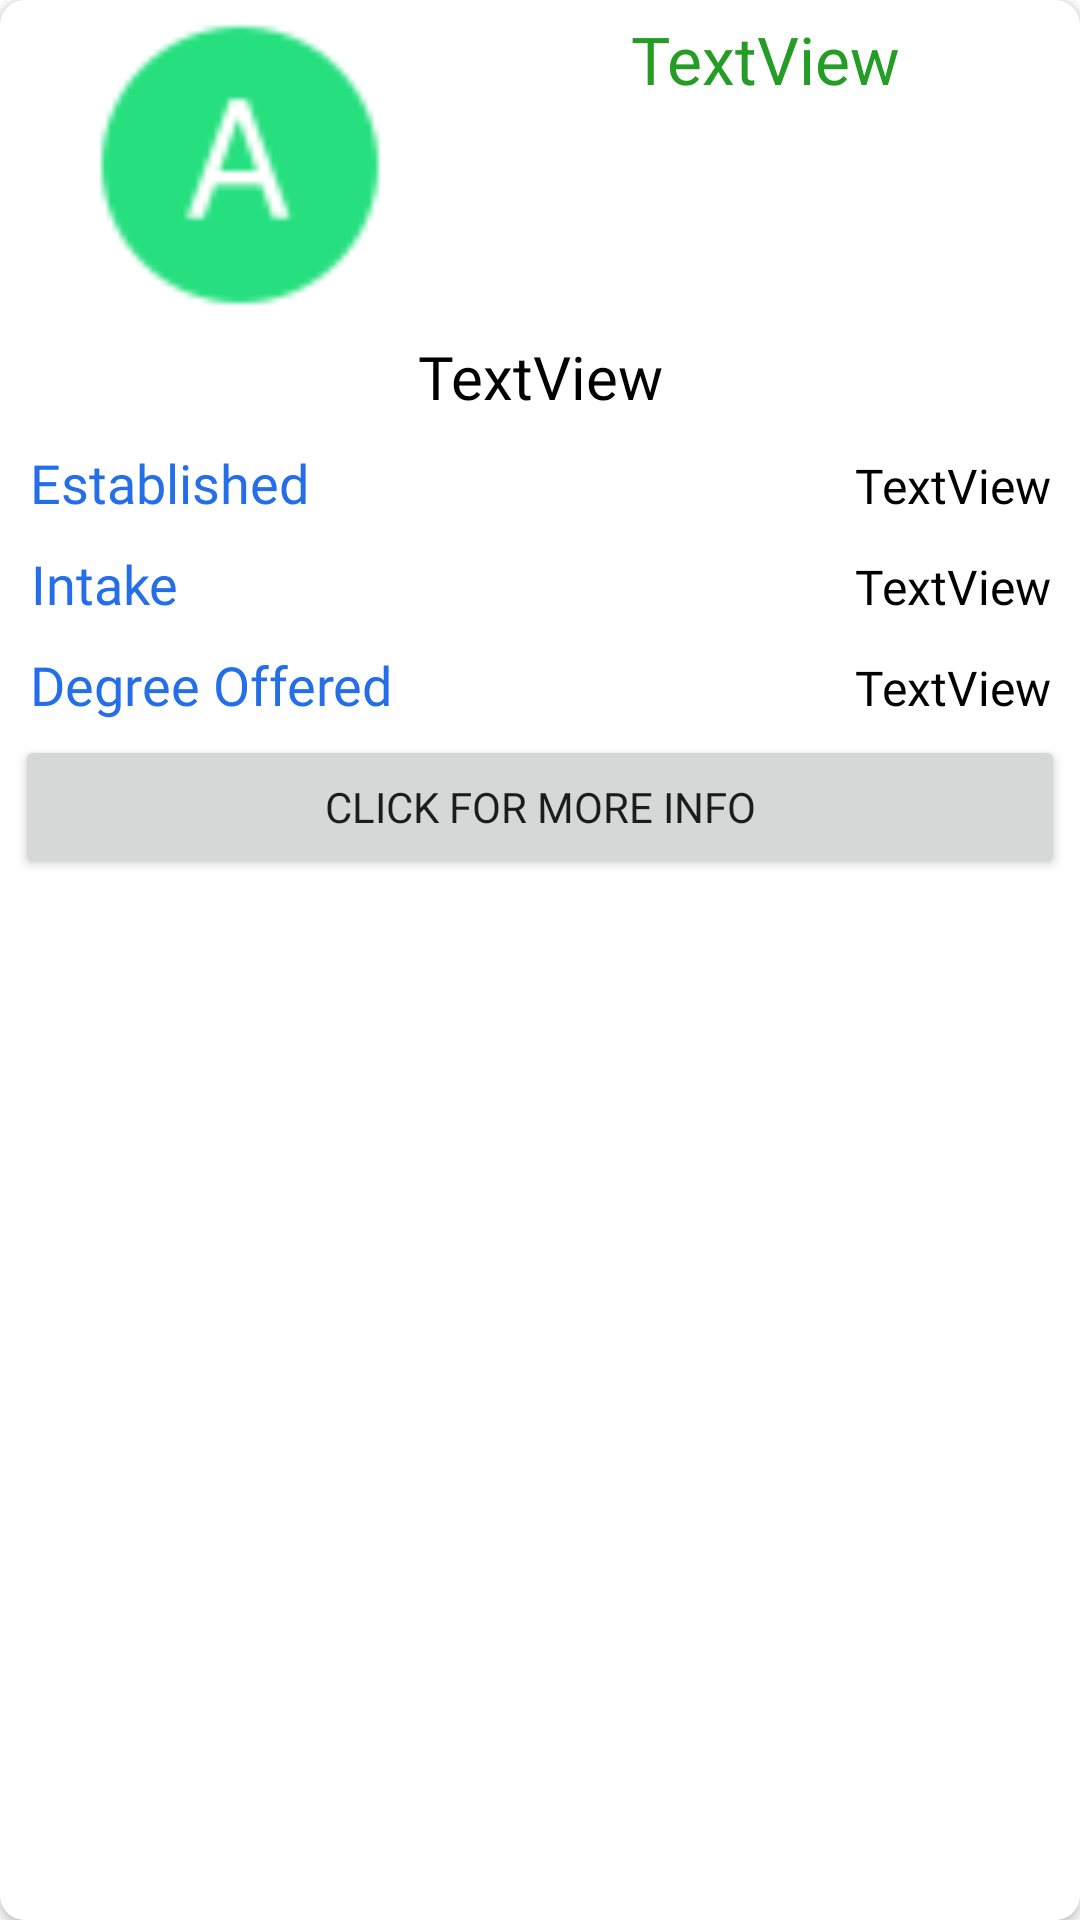

Icon click points for this 1080px x 1920px phone screenshot, format [x,y]:
aicon: [240,165]
